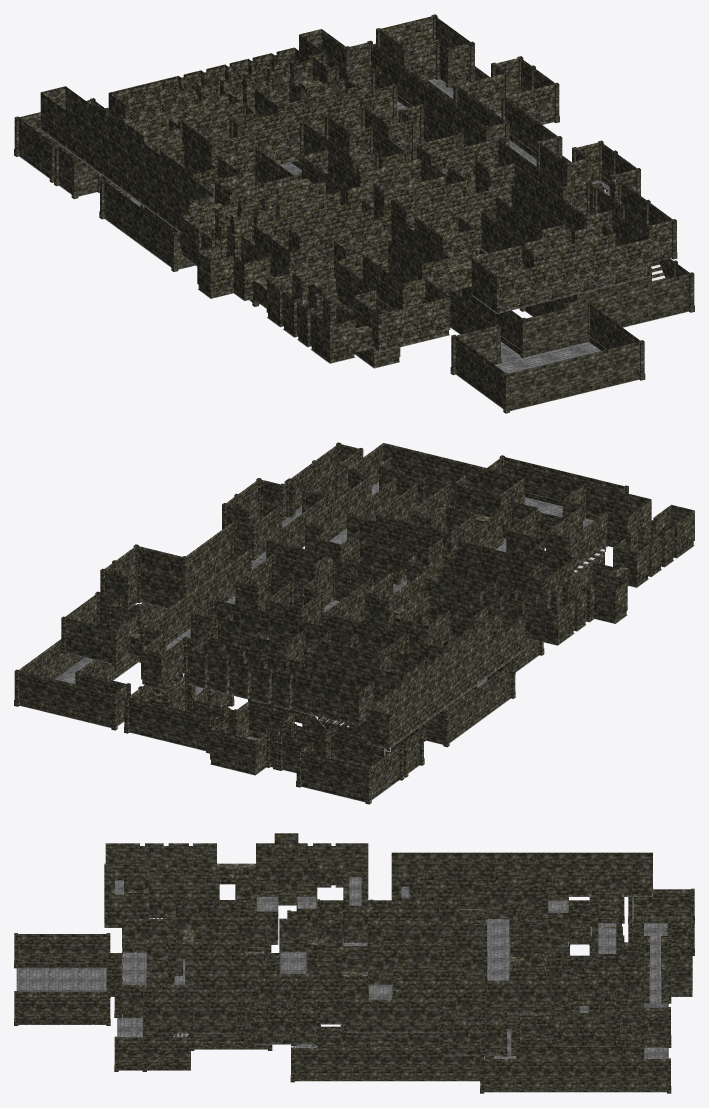
Rendered from 002_zennkiseisaku_meiro2_01_08.fbx.
3 renders of one model, top to bottom at view 1: azimuth 30°, elevation 25°; view 2: azimuth 150°, elevation 25°; view 3: azimuth 270°, elevation 25°, orthographic. The views are drawn at different scales.
Parts seen in each view (by area): view 1: 2kai_kabe, 1kai_kabe, 2kai_hasira, 1kai_hasira, 1kai_yuka, 2kai_yuka; view 2: 2kai_kabe, 1kai_kabe, 2kai_hasira, 1kai_hasira, 2kai_yuka, 1kai_yuka, kaidann; view 3: 2kai_kabe, 1kai_kabe, 2kai_yuka, 1kai_yuka, 2kai_hasira, 1kai_hasira.
Boxes of the visible parts, <box> form: 2kai_kabe: <box>40,15,673,363</box>; 1kai_kabe: <box>18,43,690,410</box>; 2kai_hasira: <box>178,14,677,264</box>; 1kai_hasira: <box>14,98,694,413</box>; 1kai_yuka: <box>19,79,688,410</box>; 2kai_yuka: <box>41,78,650,363</box>; 2kai_kabe: <box>64,443,694,748</box>; 1kai_kabe: <box>18,456,625,801</box>; 2kai_hasira: <box>60,442,409,673</box>; 1kai_hasira: <box>14,455,628,804</box>; 2kai_yuka: <box>66,482,694,749</box>; 1kai_yuka: <box>20,497,562,802</box>; kaidann: <box>149,546,607,729</box>; 2kai_kabe: <box>104,833,652,1055</box>; 1kai_kabe: <box>16,889,692,1091</box>; 2kai_yuka: <box>104,877,652,1055</box>; 1kai_yuka: <box>17,923,692,1092</box>; 2kai_hasira: <box>142,884,620,1056</box>; 1kai_hasira: <box>14,888,694,1093</box>.
Bounding box in the file's own units: 961 × 165 × 1456.
